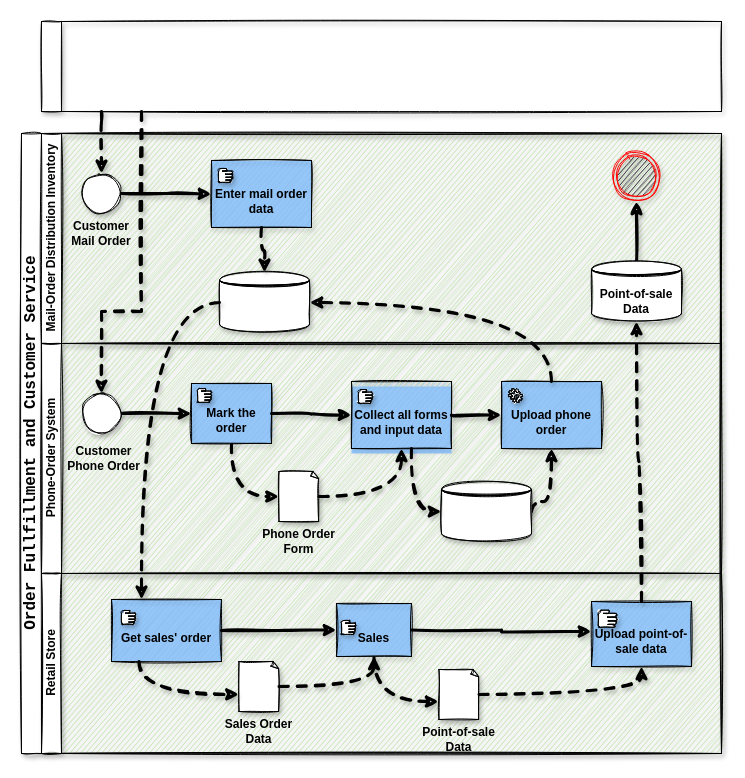
This 745x778 diagram has some shape labels left out. Each missing label, with the centre of its shape:
"Customer" belongs at pixel 382 67.
"Order Information" belongs at pixel 265 304.
"Phone order Information" belongs at pixel 487 512.
